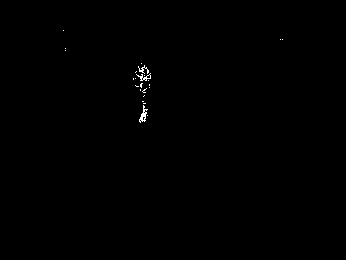person: (134, 63, 153, 124)
